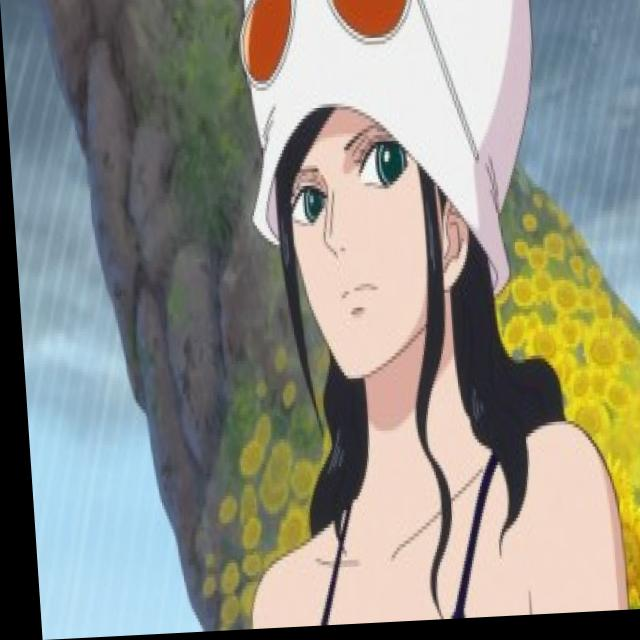NicoRobin: (221, 0, 523, 399)
